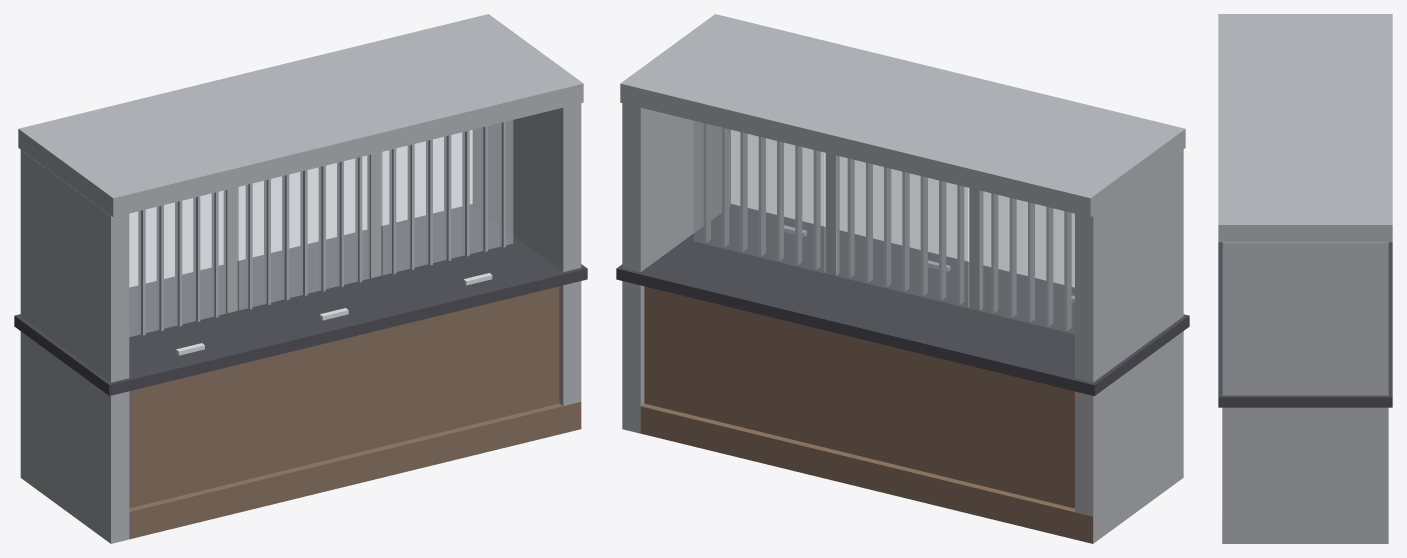
The model's file is cashCage.glb.
3 renders of one model, left to right at view 1: azimuth 30°, elevation 25°; view 2: azimuth 150°, elevation 25°; view 3: azimuth 270°, elevation 25°, orthographic. The views are drawn at different scales.
Visible parts, largest first — view 1: cashier-cage; view 2: cashier-cage; view 3: cashier-cage.
Part boxes in pixels (x1,y1,x2,y2): cashier-cage: (14, 14, 587, 543); cashier-cage: (616, 14, 1189, 543); cashier-cage: (1218, 14, 1392, 543).
Bounding box in the file's own units: 3.66 × 2.54 × 1.26.
